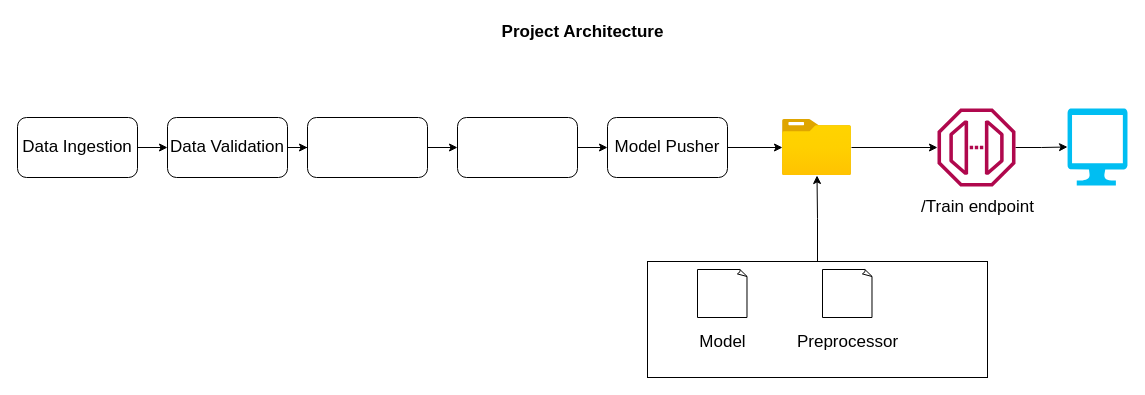
Image size: 1145x395. Some labels were removed from this diagram. The shapes that lost their labels are listed below. From the top down, each one's centre as x and y in pixels, then its label:
At [367,147]: "Data Transformation".
At [517,147]: "Model Trainer".
